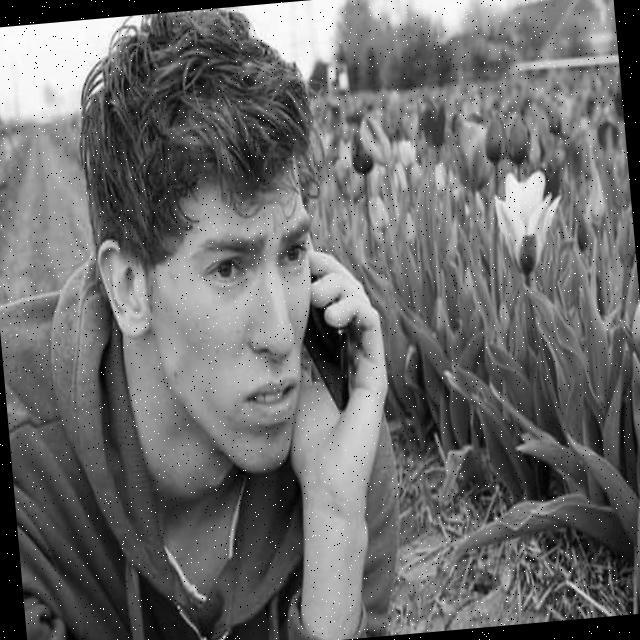Sadness: (170, 173, 328, 478)
